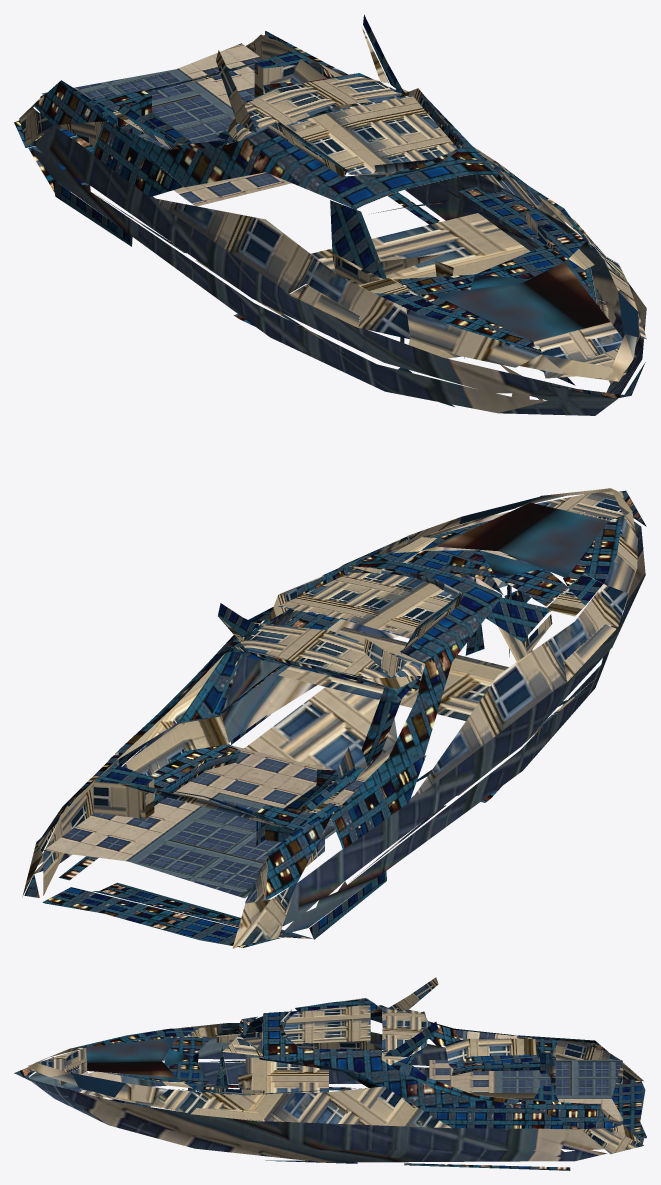
File: Boat2.fbx
3 views of the same model, one above another, from view 1: azimuth 30°, elevation 25°; view 2: azimuth 150°, elevation 25°; view 3: azimuth 270°, elevation 25° (orthographic). The views are drawn at different scales.
Parts seen in each view (by area): view 1: nurbsToPoly151.001; view 2: nurbsToPoly151.001; view 3: nurbsToPoly151.001.
Part boxes in pixels (box(x1,y1,x2,y2)): nurbsToPoly151.001: box(14, 14, 646, 415); nurbsToPoly151.001: box(22, 488, 646, 948); nurbsToPoly151.001: box(14, 977, 646, 1170).
Bounding box in the file's own units: 7.37 × 6.39 × 23.12.
